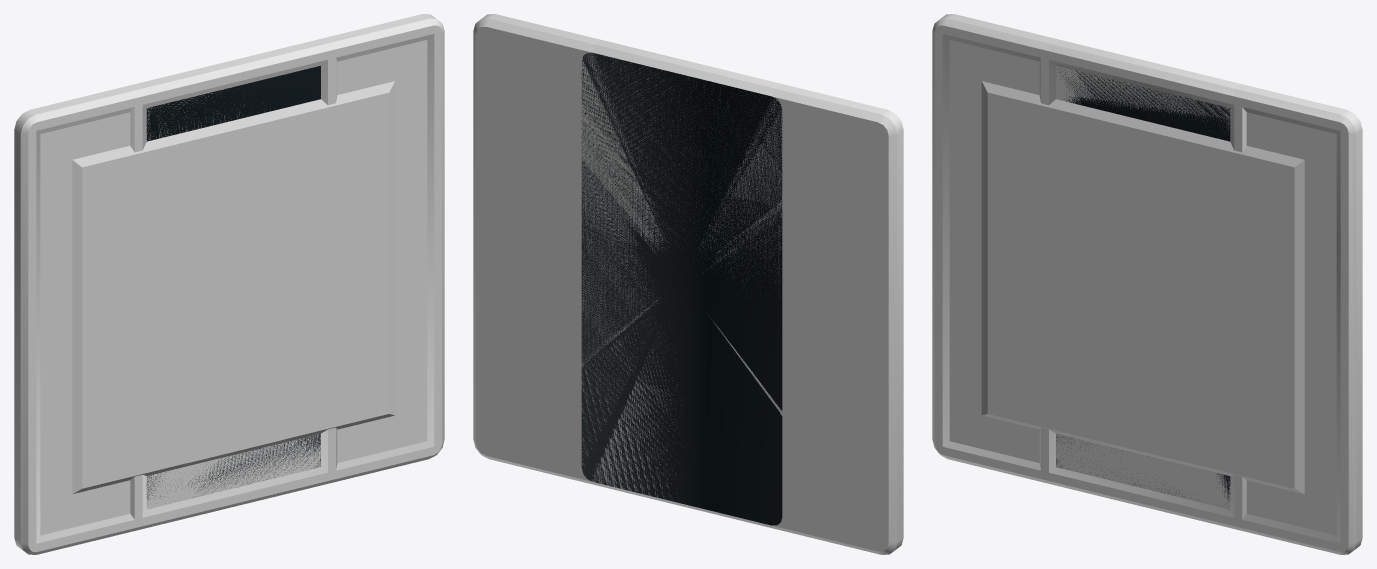
Rendered from Platforms_NoCable.fbx.
The picture shows the model from 3 angles, left to right: view 1: azimuth 30°, elevation 25°; view 2: azimuth 150°, elevation 25°; view 3: azimuth 330°, elevation 25°; orthographic projection.
Parts seen in each view (by area): view 1: Platform8x8Azul, Platform4x8Azul; view 2: Platform8x8Azul, Platform4x8Azul, Platform4x4Azul; view 3: Platform8x8Azul, Platform4x8Azul.
Boxes of the visible parts, x1,y1,x2,y2 form: Platform8x8Azul: (14,14,444,554); Platform4x8Azul: (130,40,337,525); Platform8x8Azul: (473,14,903,554); Platform4x8Azul: (581,40,782,527); Platform4x4Azul: (581,179,782,415); Platform8x8Azul: (932,14,1362,554); Platform4x8Azul: (1039,40,1246,525).
Size of the model in its own units: 8021 by 7961 by 414.
